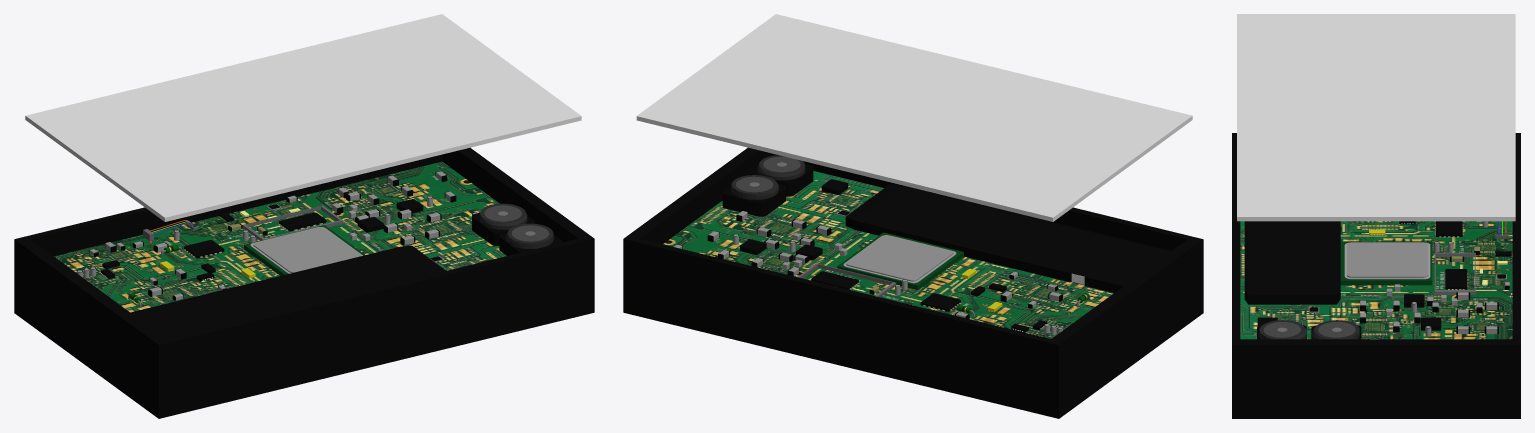
File: 本番ステージ.fbx
The picture shows the model from 3 angles, left to right: view 1: azimuth 30°, elevation 25°; view 2: azimuth 150°, elevation 25°; view 3: azimuth 270°, elevation 25°; orthographic projection.
Visible parts, largest first — view 1: 画面, 本体, 基盤, バッテリー, CPU, カメラ, カメラ.001, 囲い, 大型IC回路; view 2: 画面, 本体, 基盤, バッテリー, CPU, カメラ, カメラ.001, 囲い, 大型IC回路; view 3: 画面, 本体, 基盤, バッテリー, CPU, カメラ, カメラ.001, 囲い, 大型IC回路, 大型IC回路.001.
Part boxes in pixels (left/top/right/bottom): 画面: left=25, top=14, right=581, bottom=221; 本体: left=14, top=147, right=594, bottom=418; 基盤: left=54, top=161, right=506, bottom=312; バッテリー: left=130, top=245, right=446, bottom=338; CPU: left=244, top=225, right=365, bottom=275; カメラ: left=472, top=203, right=535, bottom=245; カメラ.001: left=499, top=223, right=562, bottom=255; 囲い: left=242, top=205, right=343, bottom=240; 大型IC回路: left=278, top=212, right=326, bottom=231; 画面: left=636, top=14, right=1192, bottom=221; 本体: left=623, top=147, right=1203, bottom=418; 基盤: left=663, top=171, right=1113, bottom=338; バッテリー: left=845, top=184, right=1171, bottom=292; CPU: left=837, top=232, right=963, bottom=289; カメラ: left=722, top=175, right=785, bottom=216; カメラ.001: left=750, top=155, right=813, bottom=196; 囲い: left=797, top=263, right=896, bottom=297; 大型IC回路: left=810, top=271, right=859, bottom=289; 画面: left=1237, top=14, right=1515, bottom=221; 本体: left=1232, top=133, right=1520, bottom=418; 基盤: left=1240, top=221, right=1512, bottom=339; バッテリー: left=1244, top=221, right=1340, bottom=304; CPU: left=1340, top=241, right=1432, bottom=285; カメラ: left=1311, top=320, right=1361, bottom=339; カメラ.001: left=1257, top=320, right=1306, bottom=339; 囲い: left=1434, top=252, right=1475, bottom=294; 大型IC回路: left=1444, top=269, right=1468, bottom=289; 大型IC回路.001: left=1434, top=221, right=1463, bottom=237.
Size of what is drawn, in the model's own units: 1531 by 662 by 880.
